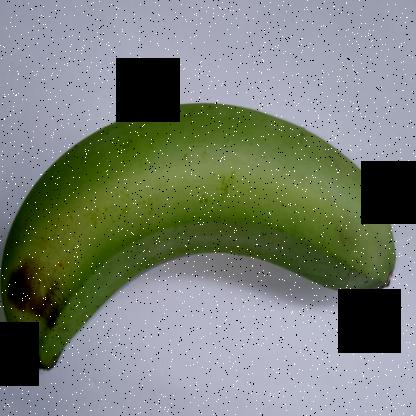freshunripe: (0, 90, 408, 391)
